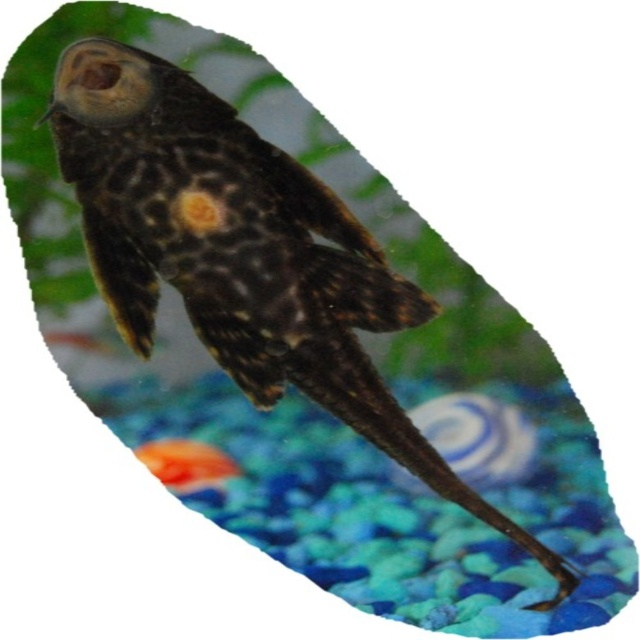Fish: (9, 59, 535, 628)
